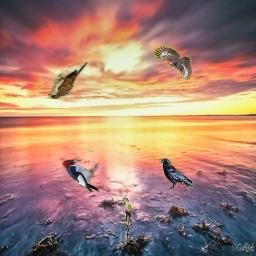Crow: (159, 157, 194, 191)
Cuckoo: (48, 62, 88, 99), (123, 198, 131, 238)
Woodpecker: (61, 158, 101, 192), (154, 46, 192, 80)
